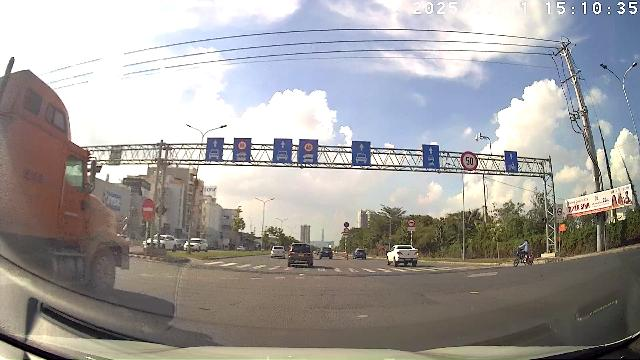127-toc-do-toi-da-50: (460, 152, 478, 170)
127-toc-do-toi-da-60: (304, 142, 314, 152)
127-toc-do-toi-da-80: (236, 140, 248, 150)
